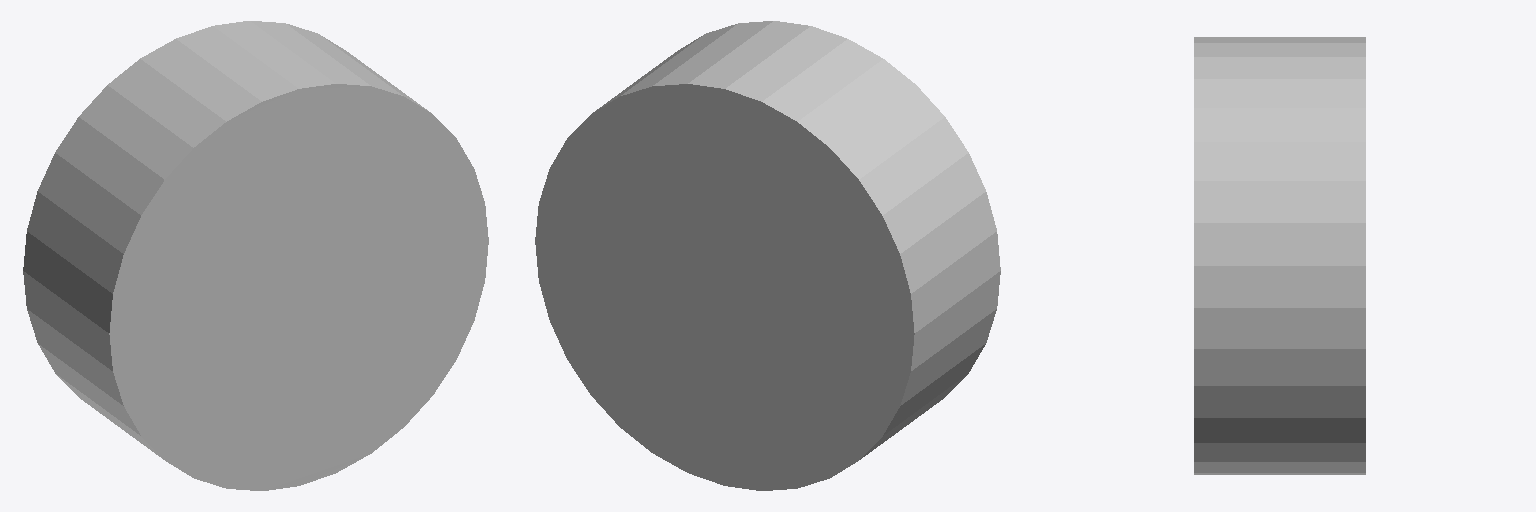
The model's file is spareTire.obj.
3 renders of one model, left to right at view 1: azimuth 30°, elevation 25°; view 2: azimuth 150°, elevation 25°; view 3: azimuth 270°, elevation 25°, orthographic.
Bounding box in the file's own units: 0.5107 × 0.5107 × 0.2013.